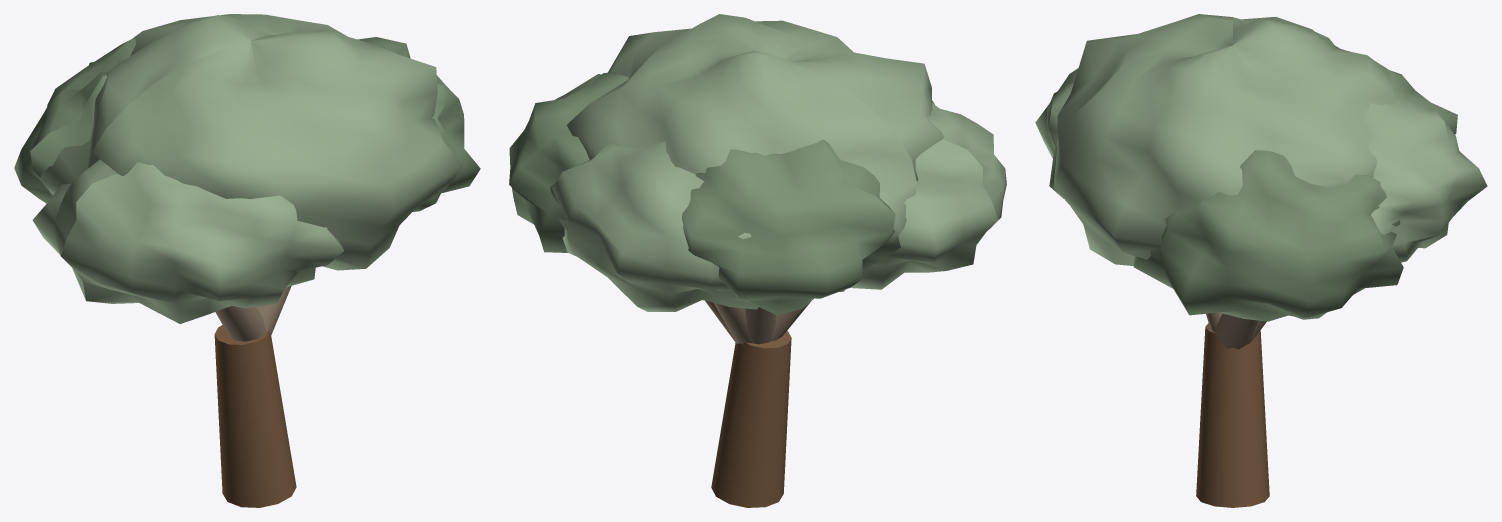
Rendered from birsalma.glb.
3 views of the same model, side by side, from view 1: azimuth 30°, elevation 25°; view 2: azimuth 150°, elevation 25°; view 3: azimuth 270°, elevation 25° (orthographic). The views are drawn at different scales.
Visible parts, largest first — view 1: korona-tomeg, korona-1, torzs, korona-4, korona-2, ag-1, ag-2; view 2: korona-tomeg, korona-4, korona-3, korona-1, torzs, korona-2, ag-4, ag-3; view 3: korona-tomeg, korona-2, korona-3, torzs, korona-1, korona-4, ag-2.
Boxes of the visible parts, x1,y1,x2,y2 form: korona-tomeg: [39, 14, 463, 270]; korona-1: [32, 159, 344, 323]; torzs: [214, 325, 296, 507]; korona-4: [14, 38, 135, 203]; korona-2: [357, 37, 480, 211]; ag-1: [215, 306, 266, 341]; ag-2: [255, 286, 291, 335]; korona-tomeg: [567, 14, 943, 291]; korona-4: [682, 140, 900, 314]; korona-3: [550, 141, 758, 311]; korona-1: [851, 100, 1006, 289]; torzs: [711, 330, 791, 507]; korona-2: [509, 72, 628, 252]; ag-4: [745, 307, 775, 344]; ag-3: [713, 302, 753, 344]; korona-tomeg: [1053, 14, 1395, 265]; korona-2: [1133, 150, 1403, 321]; korona-3: [1363, 95, 1487, 262]; torzs: [1196, 323, 1269, 507]; korona-1: [1035, 68, 1078, 198]; korona-4: [1316, 32, 1457, 134]; ag-2: [1215, 313, 1257, 349].
Size of the model in its own units: 3.78 by 3.9 by 3.44.
